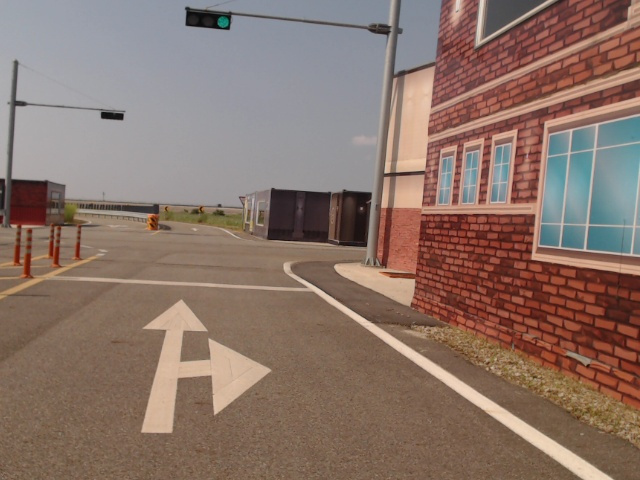green_3: (186, 11, 230, 31)
